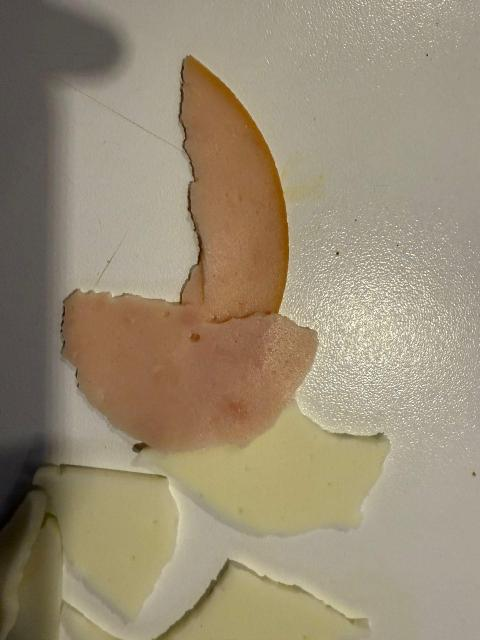Organik: (31, 291, 325, 445), (161, 61, 308, 316), (128, 407, 401, 529), (37, 461, 189, 612), (127, 561, 381, 639), (0, 483, 61, 640)
